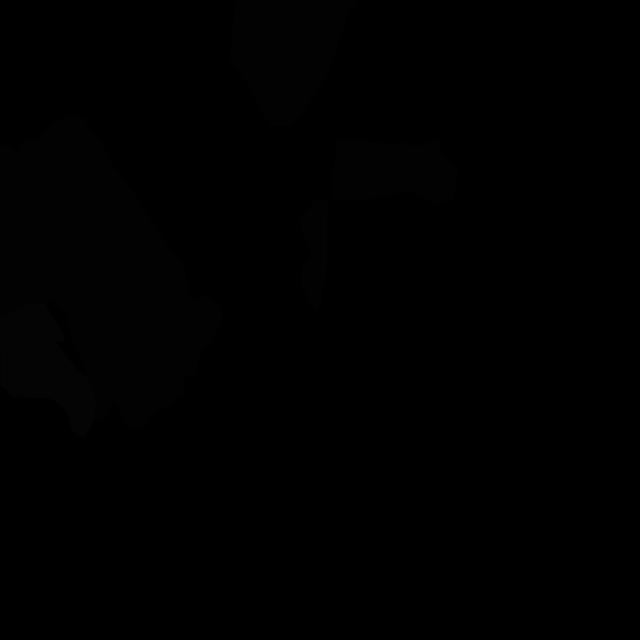cardboard: (2, 115, 223, 430), (230, 0, 358, 127), (0, 145, 54, 314), (331, 139, 458, 204), (300, 198, 328, 312)
soft_plastic: (0, 304, 96, 436)
